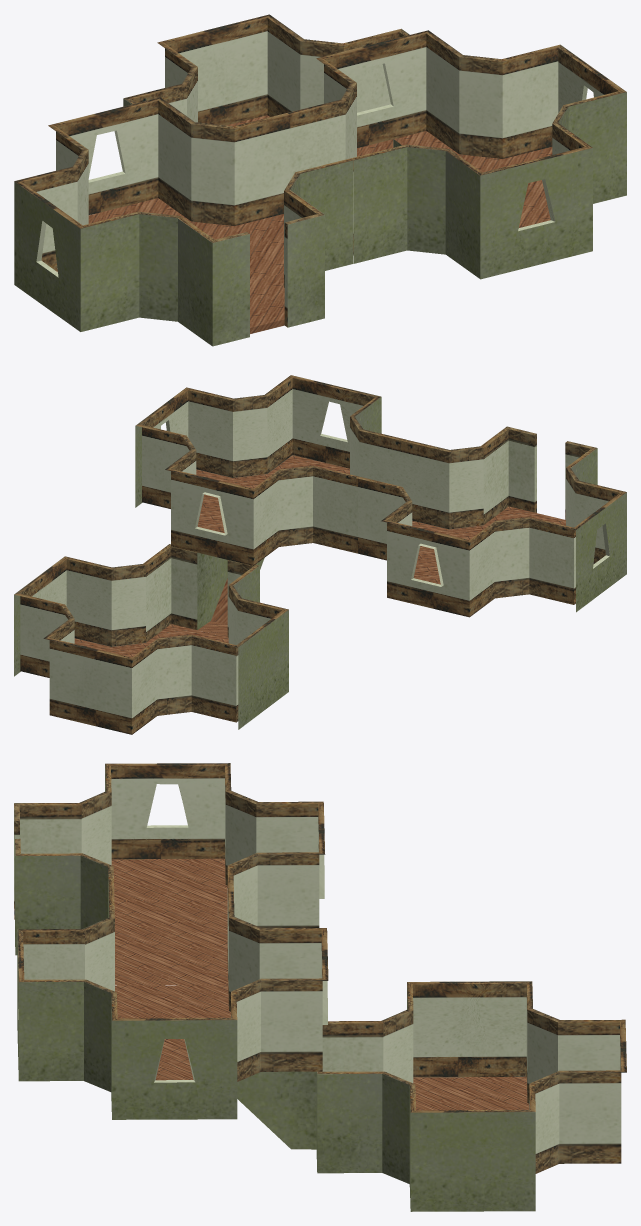
Rendered from HouseInterior_2x1xbasement.fbx.
3 renders of one model, top to bottom at view 1: azimuth 30°, elevation 25°; view 2: azimuth 150°, elevation 25°; view 3: azimuth 270°, elevation 25°, orthographic. The views are drawn at different scales.
Parts seen in each view (by area): view 1: pared_lv3_012, pared_lv3_08, sotano_03, pared_lv1_018, pared_lv2_019, pared_lv2_024, pared_lv1_012, pared_lateral_03, suelo_09, pared_lv1_011, pared_lv2_023, pared_lv2_020 (+2 smaller); view 2: sotano_03, pared_lv3_08, pared_lv3_012, pared_lv1_018, pared_lv2_023, pared_lv2_020, suelo_bajada_03, pared_lv1_011, pared_lateral_03, pared_lv2_024, pared_lv2_019, suelo_09 (+2 smaller); view 3: sotano_03, suelo_09, pared_lv3_012, pared_lv3_08, pared_lateral_011, pared_lv1_018, pared_lateral_03, suelo_bajada_03, pared_lv1_011, pared_lv1_012, pared_lv2_023, pared_lv2_019 (+2 smaller).
Boxes of the visible parts, bbox=[...] form: pared_lv3_012: bbox=[288, 30, 559, 179]; pared_lv3_08: bbox=[14, 97, 290, 270]; sotano_03: bbox=[123, 14, 409, 255]; pared_lv1_018: bbox=[445, 123, 592, 279]; pared_lv2_019: bbox=[80, 211, 180, 331]; pared_lv2_024: bbox=[351, 144, 449, 263]; pared_lv1_012: bbox=[178, 216, 249, 346]; pared_lateral_03: bbox=[14, 181, 82, 331]; suelo_09: bbox=[56, 198, 284, 333]; pared_lv1_011: bbox=[284, 190, 324, 327]; pared_lv2_023: bbox=[552, 91, 626, 203]; pared_lv2_020: bbox=[284, 158, 353, 270]; sotano_03: bbox=[14, 544, 288, 734]; pared_lv3_08: bbox=[356, 476, 575, 617]; pared_lv3_012: bbox=[136, 425, 357, 565]; pared_lv1_018: bbox=[265, 375, 381, 473]; pared_lv2_023: bbox=[186, 387, 267, 477]; pared_lv2_020: bbox=[404, 440, 483, 529]; suelo_bajada_03: bbox=[196, 455, 349, 637]; pared_lv1_011: bbox=[480, 426, 536, 524]; pared_lateral_03: bbox=[574, 492, 626, 612]; pared_lv2_024: bbox=[350, 416, 406, 488]; pared_lv2_019: bbox=[566, 467, 625, 563]; suelo_09: bbox=[412, 506, 593, 584]; sotano_03: bbox=[316, 981, 626, 1211]; suelo_09: bbox=[111, 858, 228, 985]; pared_lv3_012: bbox=[228, 891, 328, 1081]; pared_lv3_08: bbox=[225, 763, 325, 980]; pared_lateral_011: bbox=[112, 1018, 237, 1119]; pared_lv1_018: bbox=[17, 929, 85, 1081]; pared_lateral_03: bbox=[105, 763, 230, 859]; suelo_bajada_03: bbox=[115, 985, 316, 1149]; pared_lv1_011: bbox=[15, 838, 82, 955]; pared_lv1_012: bbox=[14, 803, 81, 919]; pared_lv2_023: bbox=[84, 979, 117, 1111]; pared_lv2_019: bbox=[79, 764, 111, 864].
Bounding box in the file's own units: 9120 × 3176 × 9169.
